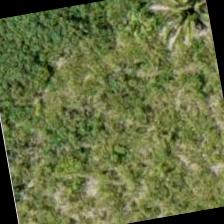Kelapa_Sawit: (136, 0, 213, 54)
